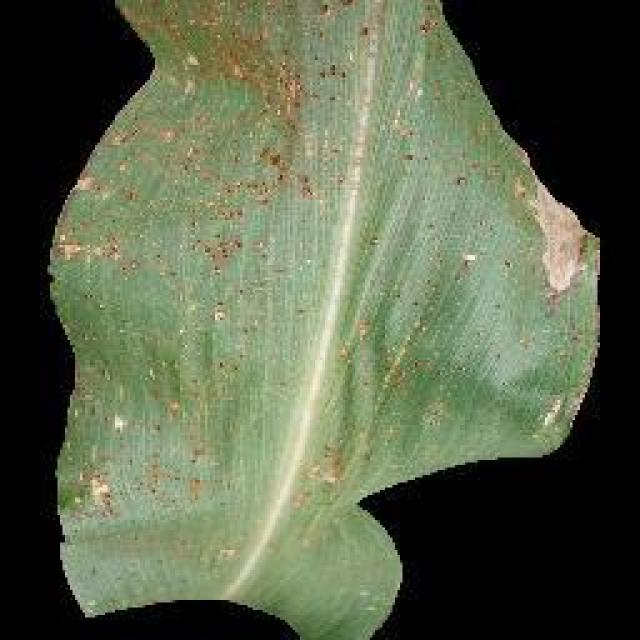Corn Common Rust: (46, 0, 536, 345)
